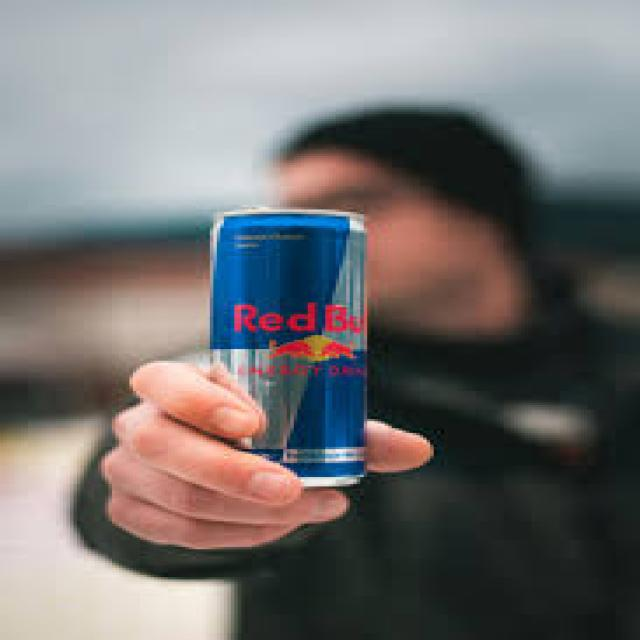red-bull: (216, 205, 376, 496)
